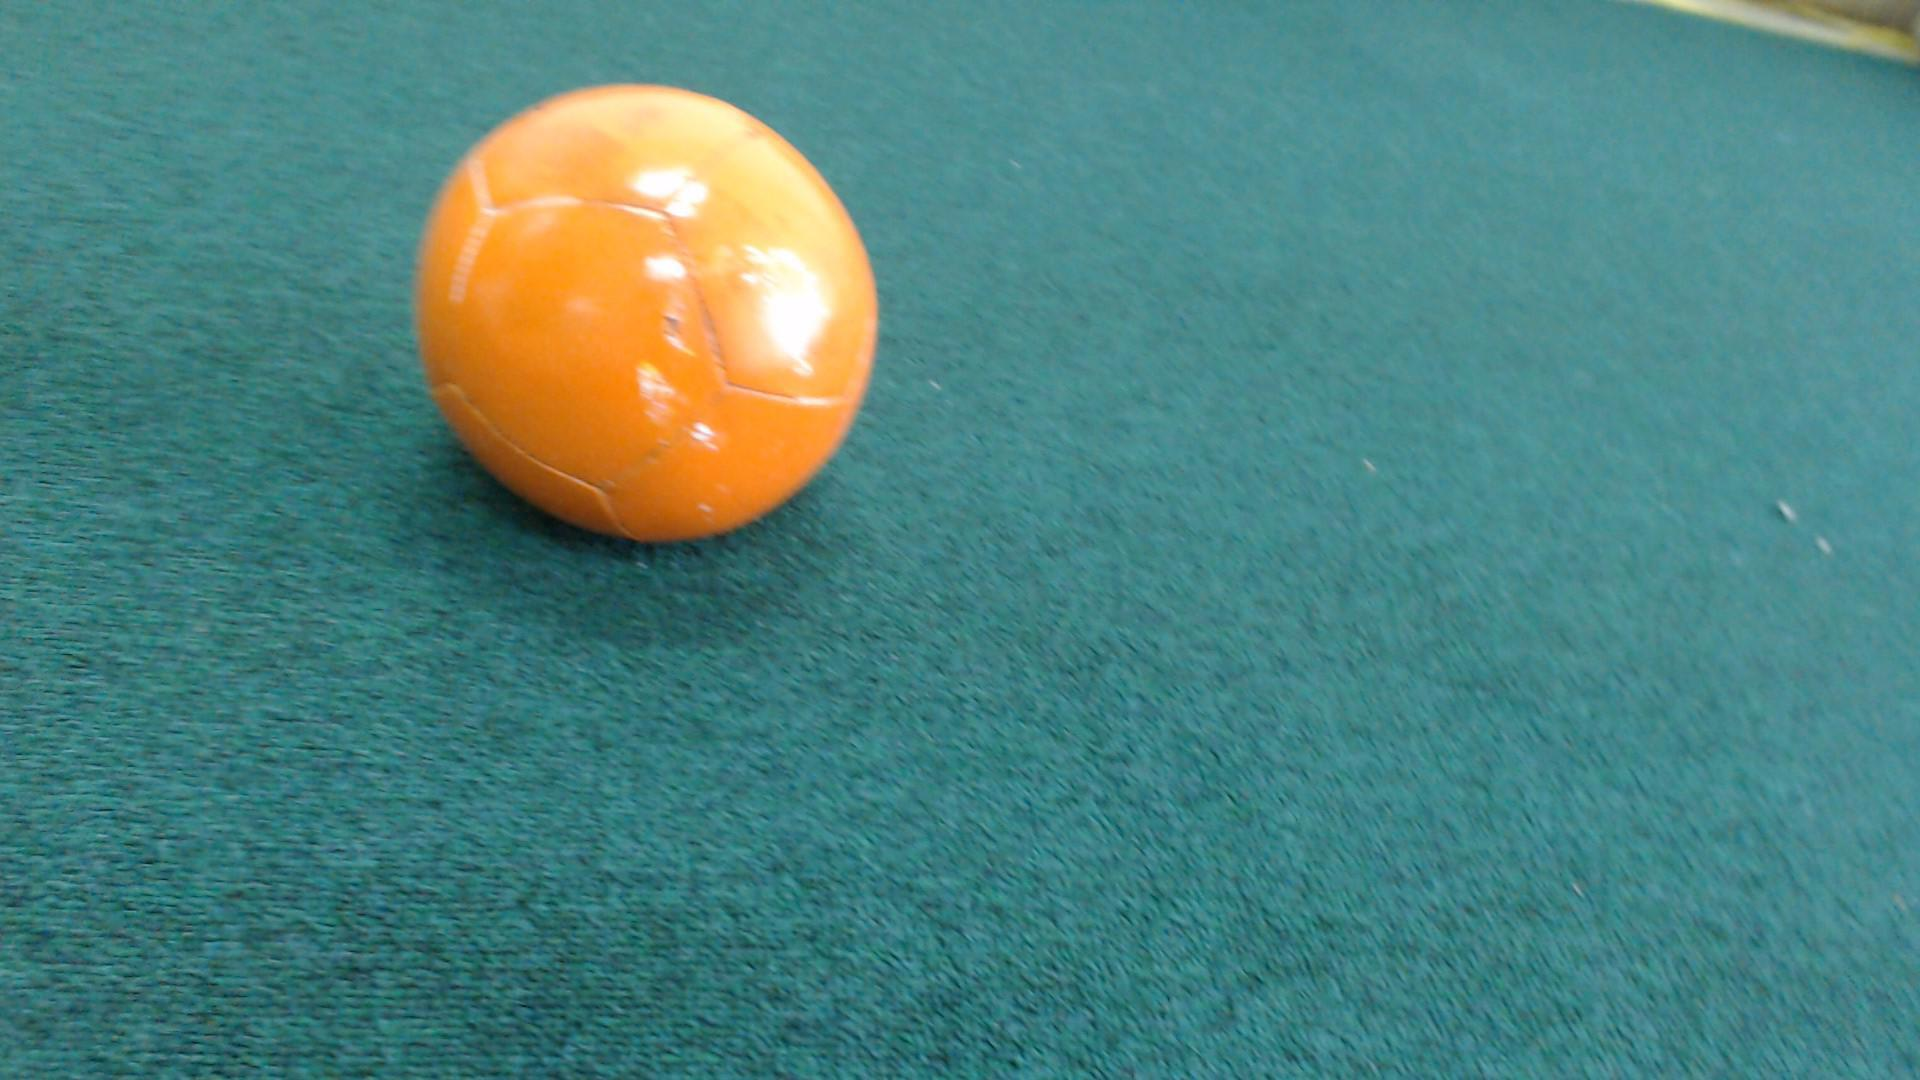bola: (388, 62, 891, 568)
